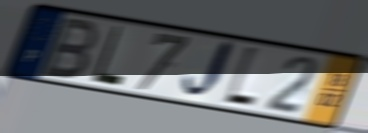2: (263, 55, 319, 115)
7: (133, 31, 193, 93)
B: (37, 15, 102, 81)
J: (177, 37, 239, 102)
L: (220, 43, 259, 112), (90, 23, 126, 89)
